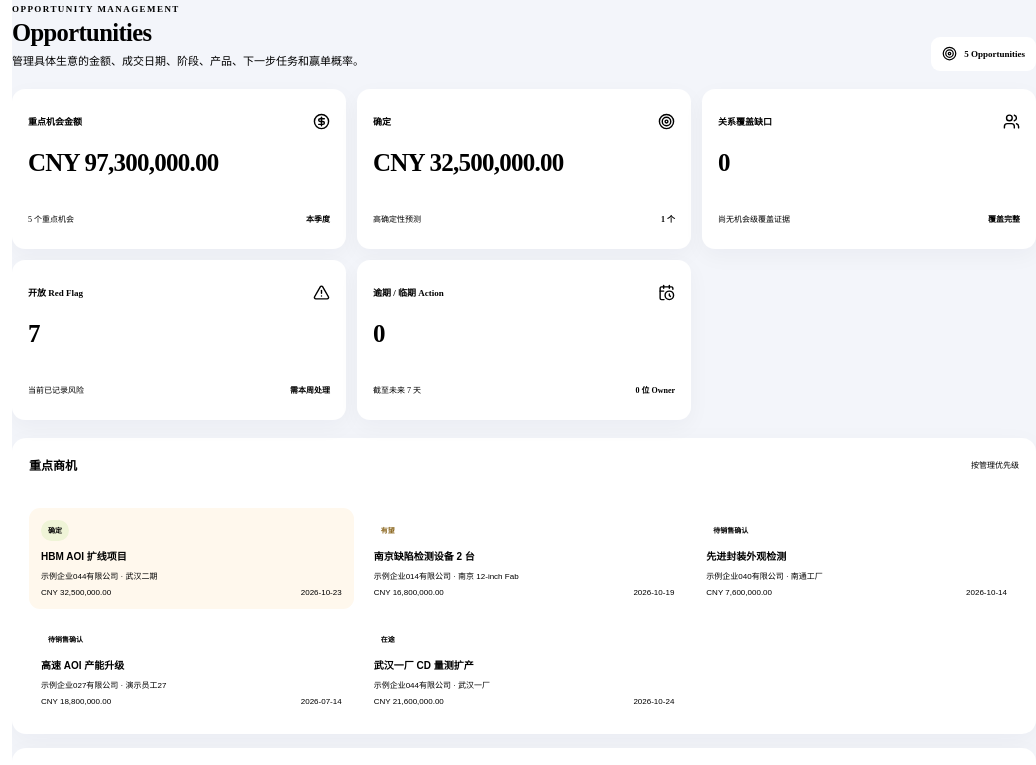
P1 business workspace › switches the selected opportunity and its strategy evidence
Step 1. Click the 3rd button → coordinates (731, 531), box x1=694 y1=508 x2=1019 y2=609
(page scrolled)
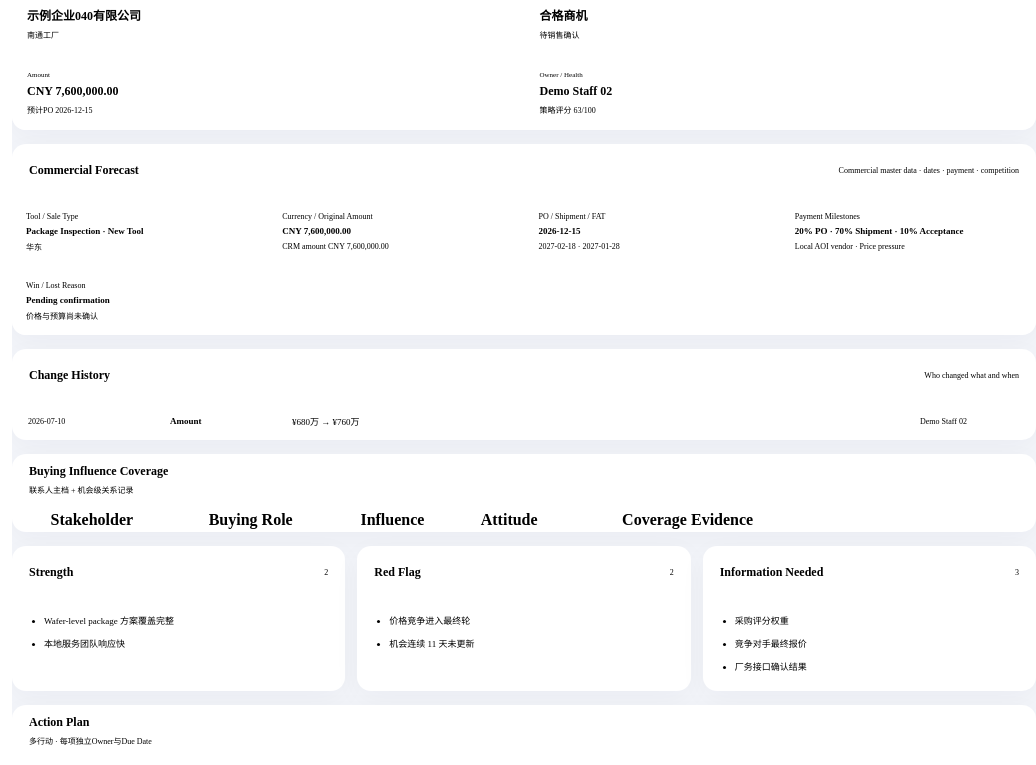
Result: the text "价格竞争进入最终轮" is shown at x1=389 y1=616 x2=470 y2=626
